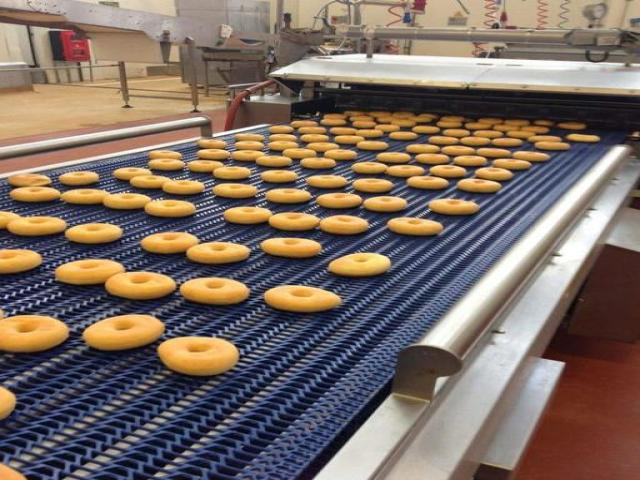conveyor: (0, 106, 635, 479)
